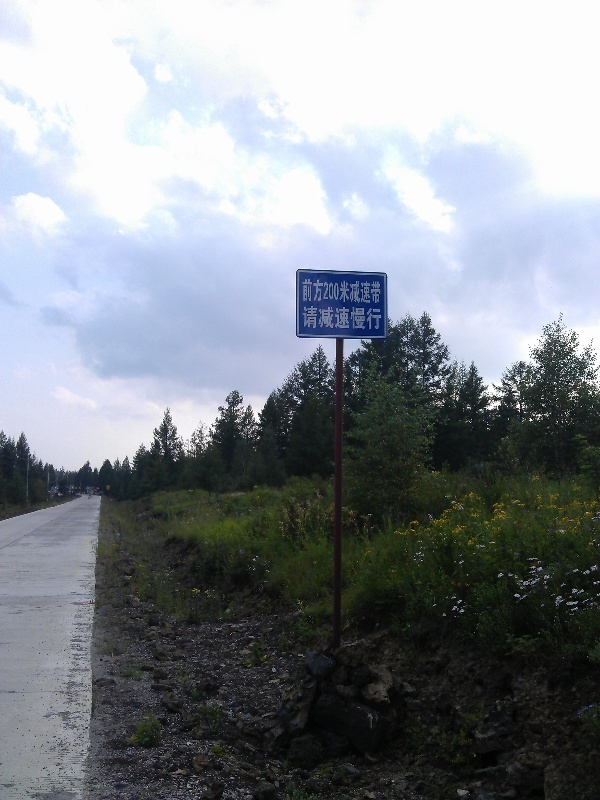text: (305, 279, 320, 304), (321, 279, 336, 304), (337, 279, 352, 304), (353, 279, 368, 304), (305, 305, 320, 330), (321, 305, 336, 330), (337, 305, 352, 330), (353, 305, 368, 330), (369, 279, 382, 304), (369, 305, 382, 330), (303, 279, 304, 304), (303, 305, 304, 330)
